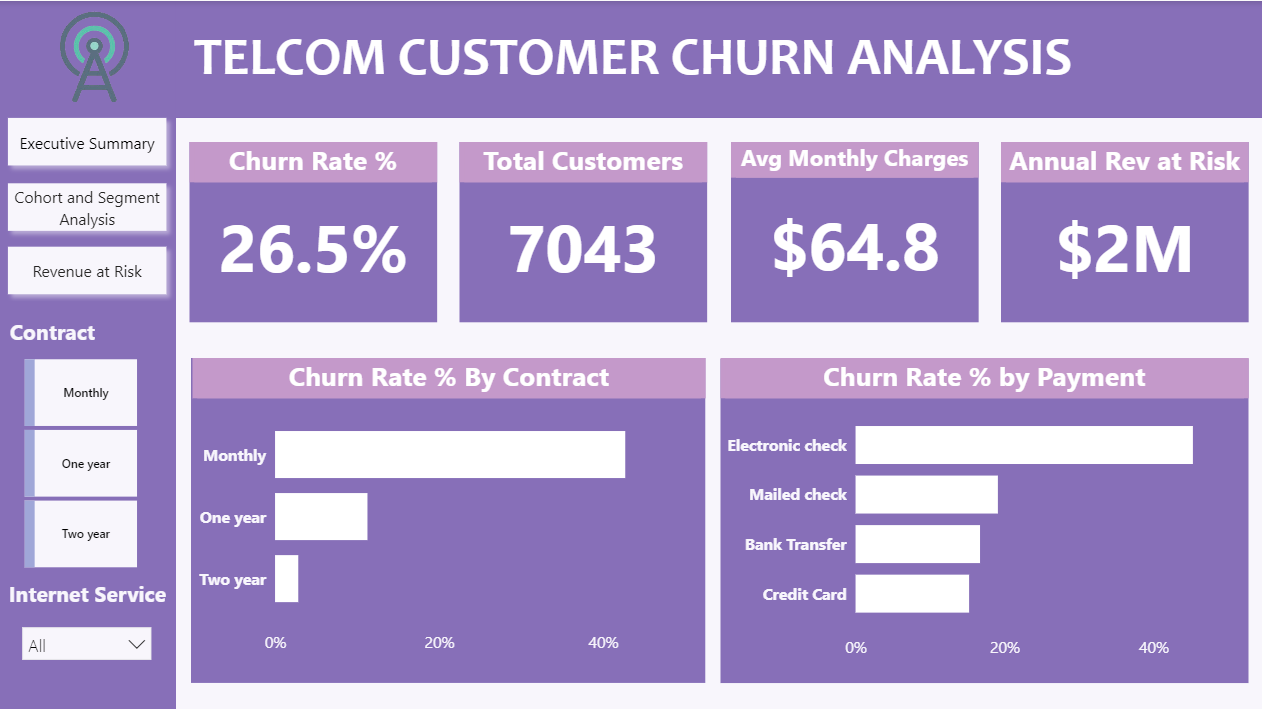

What the dashboard file says about the page in this screenshot:
{"tool":"powerbi","page":{"name":"Executive Summary","canvas":[1280,720],"ordinal":0},"visuals":[{"type":"shape","box":[0,0,1279.5,118],"z":0},{"type":"shape","box":[192.3,141.8,249.8,181.7],"z":0,"group":"g3"},{"type":"textbox","box":[0,0,1279.5,109],"z":1000},{"type":"shape","box":[465.4,141.8,249.8,181.7],"z":1000,"group":"g4"},{"type":"shape","box":[0,0,178.7,719.2],"z":2000},{"type":"shape","box":[1011.5,141.8,249.8,181.7],"z":2000,"group":"g6"},{"type":"shape","box":[193.8,360.9,519.1,328.1],"z":2000,"group":"g2"},{"type":"shape","box":[738.4,141.8,249.8,181.7],"z":3000,"group":"g5"},{"type":"slicer","fields":{"Values":["telco_churn_cleaned.contract"]},"box":[0,354.3,163.5,224.1],"z":3000},{"type":"slicer","fields":{"Values":["telco_churn_cleaned.internetservice"]},"box":[13.6,622.3,149.9,57.5],"z":4000},{"type":"pageNavigator","box":[0,109,178.7,195.3],"z":5000},{"type":"image","box":[0,0,192.3,118.1],"z":6000},{"type":"textbox","box":[0,313.4,137.8,42.4],"z":7000},{"type":"shape","box":[728.3,361.8,533,326.6],"z":8000,"group":"g1"},{"type":"textbox","box":[0,578.4,178.7,43.9],"z":8000},{"type":"card","title":"Annual Rev at Risk","fields":{"Values":["telco_churn_cleaned.Annual Rev at Risk"]},"box":[1011.5,141.8,249.8,168.1],"z":9000,"group":"g6"},{"type":"group","id":"g1","title":"Group 1","box":[728.3,360.4,533,328.1],"z":9000},{"type":"card","title":"Avg Monthly Charges","fields":{"Values":["telco_churn_cleaned.Avg Monthly Charge"]},"box":[738.9,141.8,249.8,168.1],"z":10000,"group":"g5"},{"type":"group","id":"g2","title":"Group 2","box":[193.8,360.4,519.4,328.6],"z":10000},{"type":"group","id":"g3","title":"Group 3","box":[192.3,141.8,249.8,181.7],"z":11000},{"type":"card","title":"Total Customers","fields":{"Values":["telco_churn_cleaned.Total Customers"]},"box":[464.9,141.8,249.8,168.1],"z":11000,"group":"g4"},{"type":"clusteredBarChart","title":"Churn Rate % By Contract","fields":{"Category":["telco_churn_cleaned.contract"],"Y":["telco_churn_cleaned.Churn Rate %"]},"box":[195.1,360.4,517.9,308.8],"z":11000,"group":"g2"},{"type":"group","id":"g4","title":"Group 4","box":[464.9,141.8,250.3,181.7],"z":12000},{"type":"card","title":"Churn Rate %","fields":{"Values":["telco_churn_cleaned.Churn Rate %"]},"box":[192.3,141.8,249.8,168.1],"z":13000,"group":"g3"},{"type":"group","id":"g5","title":"Group 5","box":[738.4,141.8,250.3,181.7],"z":13000},{"type":"group","id":"g6","title":"Group 6","box":[1011.5,141.8,249.8,181.7],"z":14000},{"type":"clusteredBarChart","title":"Churn Rate % by Payment","fields":{"Category":["telco_churn_cleaned.paymentmethod"],"Y":["telco_churn_cleaned.Churn Rate %"]},"box":[728.3,360.4,533,313.4],"z":14000,"group":"g1"}]}

Visuals, with their boxes in screenshot pixels (x1, y1, x2, y2), scaled from the page's 1280x720 canvas onto the 1262x709 screenshot:
shape: rect(0, 0, 1261, 116)
shape: rect(190, 140, 436, 319)
textbox: rect(0, 0, 1261, 107)
shape: rect(459, 140, 705, 319)
shape: rect(0, 0, 176, 708)
shape: rect(997, 140, 1244, 319)
shape: rect(191, 355, 703, 678)
shape: rect(728, 140, 974, 319)
slicer - telco_churn_cleaned.contract: rect(0, 349, 161, 570)
slicer - telco_churn_cleaned.internetservice: rect(13, 613, 161, 669)
pageNavigator: rect(0, 107, 176, 300)
image: rect(0, 0, 190, 116)
textbox: rect(0, 309, 136, 350)
shape: rect(718, 356, 1244, 678)
textbox: rect(0, 570, 176, 613)
"Annual Rev at Risk" card: rect(997, 140, 1244, 305)
"Group 1" group: rect(718, 355, 1244, 678)
"Avg Monthly Charges" card: rect(729, 140, 975, 305)
"Group 2" group: rect(191, 355, 703, 678)
"Group 3" group: rect(190, 140, 436, 319)
"Total Customers" card: rect(458, 140, 705, 305)
"Churn Rate % By Contract" clusteredBarChart: rect(192, 355, 703, 659)
"Group 4" group: rect(458, 140, 705, 319)
"Churn Rate %" card: rect(190, 140, 436, 305)
"Group 5" group: rect(728, 140, 975, 319)
"Group 6" group: rect(997, 140, 1244, 319)
"Churn Rate % by Payment" clusteredBarChart: rect(718, 355, 1244, 664)
